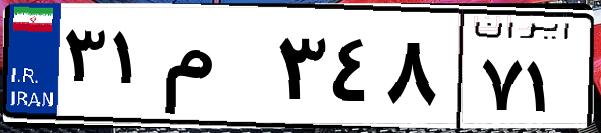1: (525, 38, 570, 115), (110, 28, 158, 98)
3: (270, 28, 330, 110), (57, 26, 110, 100)
4: (330, 28, 385, 110)
7: (475, 38, 525, 113)
8: (385, 28, 445, 110)
م: (158, 20, 270, 120)
